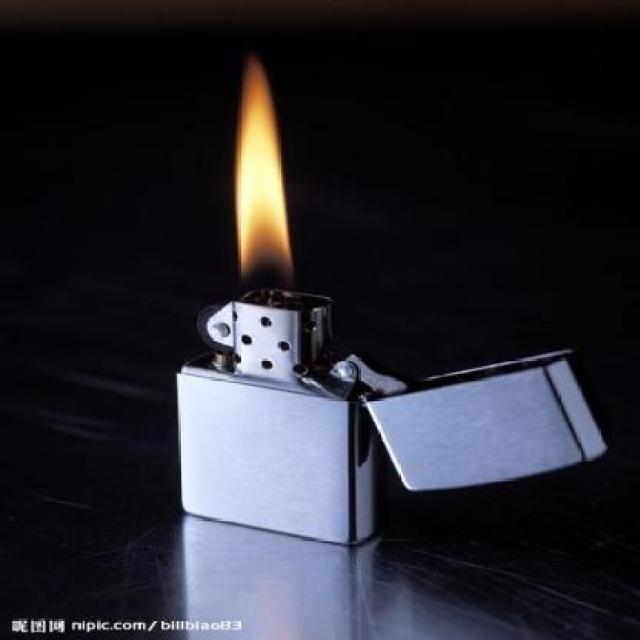Fire: (234, 54, 304, 292)
